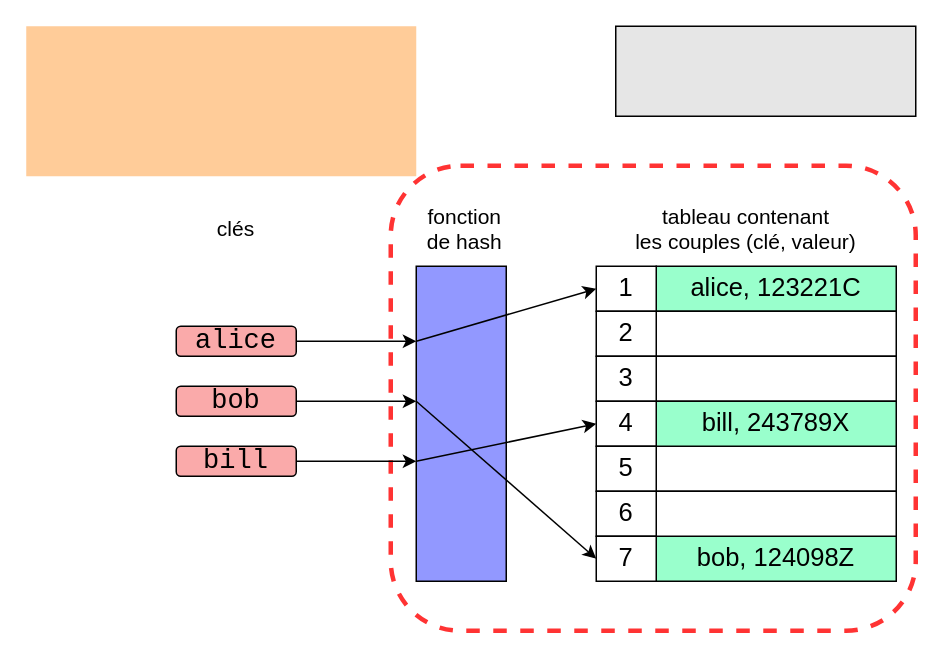
Some shapes in this 944 by 659 pixel diagram are drawn without their labels. The box of each missing label's shape, as (x1, y1, x2, y2) in pixels:
T['alice'] = '123221C' T['bob'] = '124098Z' T['bill'] = '243789X': (26, 26, 416, 176)
Table de hash: (614, 25, 916, 116)
